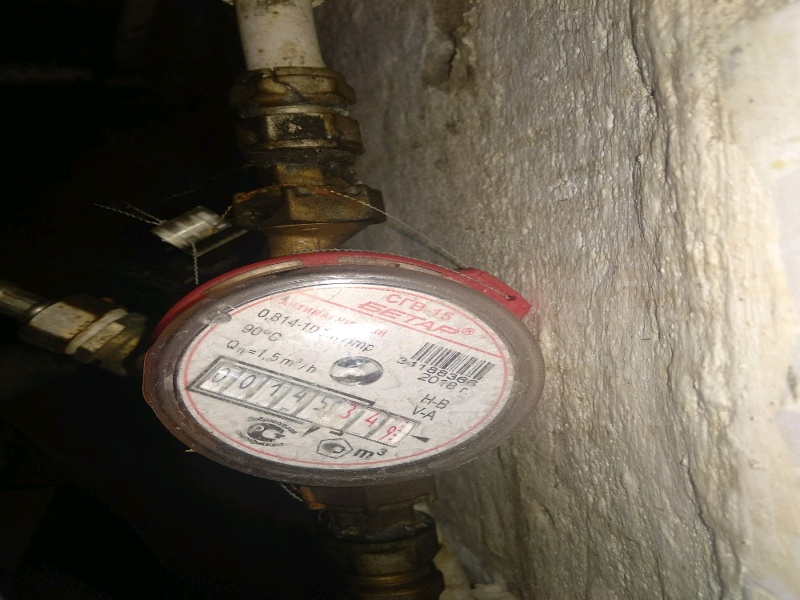meter: (215, 379, 419, 429)
